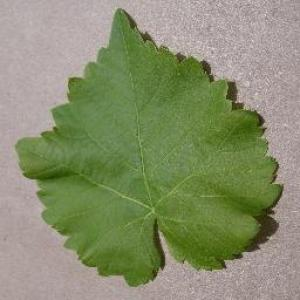Folha: (14, 7, 284, 287)
